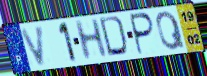1: (57, 21, 78, 64)
D: (98, 14, 131, 58)
H: (72, 17, 109, 62)
P: (129, 12, 156, 57)
Q: (155, 10, 187, 52)
V: (19, 24, 45, 68)
